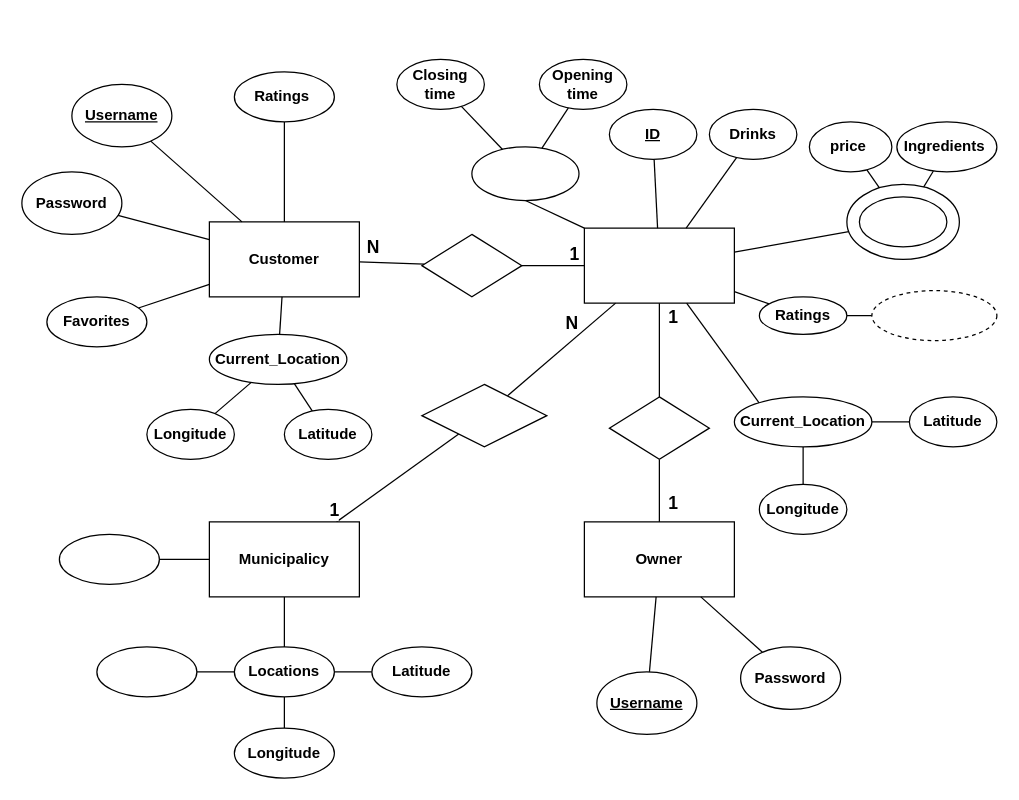
Image size: 1019x800. Some labels were removed from this diagram. Here are the shapes that lost their labels. From the top down, the centre of each, then its label:
At [525,173]: "Time".
At [902,221]: "Dishes".
At [471,265]: "has".
At [658,265]: "Food Truck".
At [934,315]: "Average Rating".
At [484,415]: "is registered".
At [658,427]: "owns".
At [108,558]: "Name".
At [146,671]: "is_occupied".
